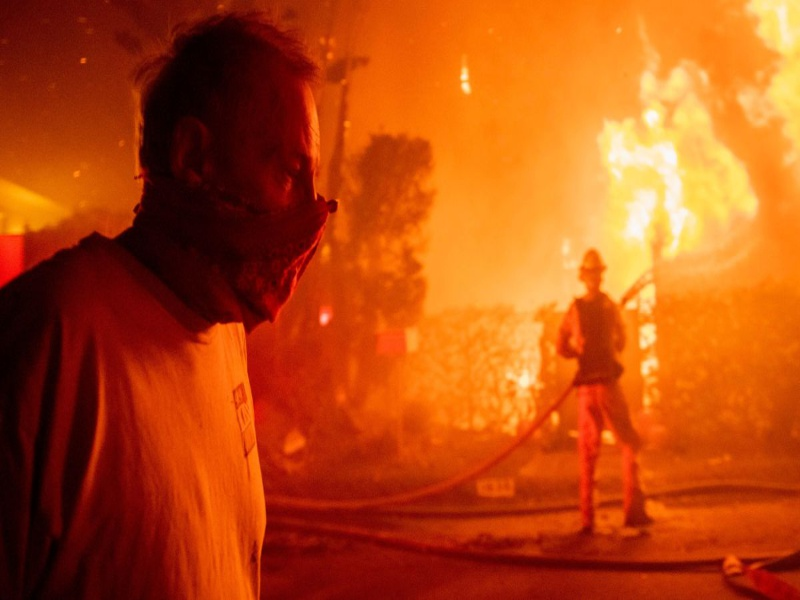fire: (574, 74, 722, 252)
